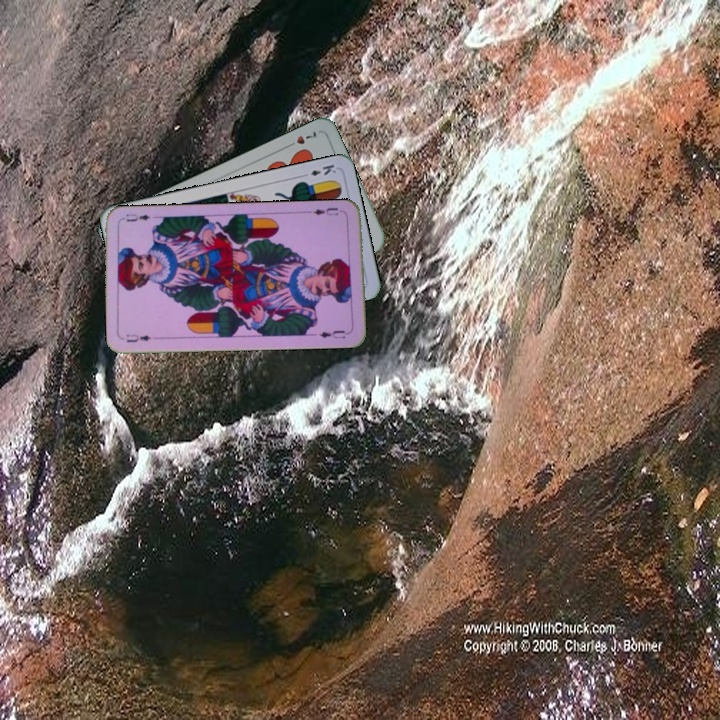EK: (298, 160, 339, 180)
EU: (306, 204, 347, 218), (122, 330, 153, 345)
H7: (282, 127, 320, 151)
